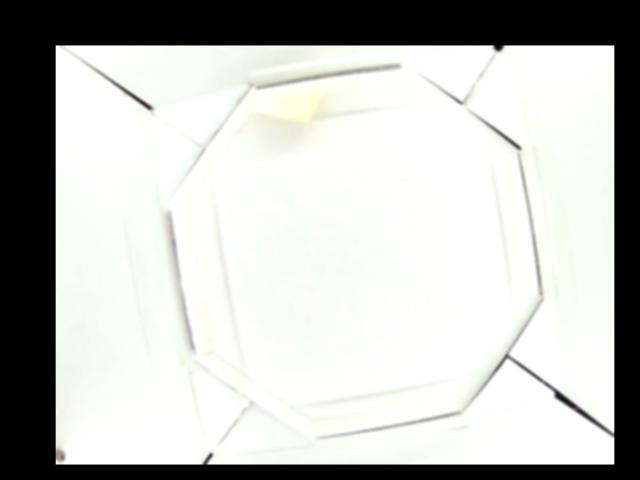Mooli: (252, 85, 324, 121)
